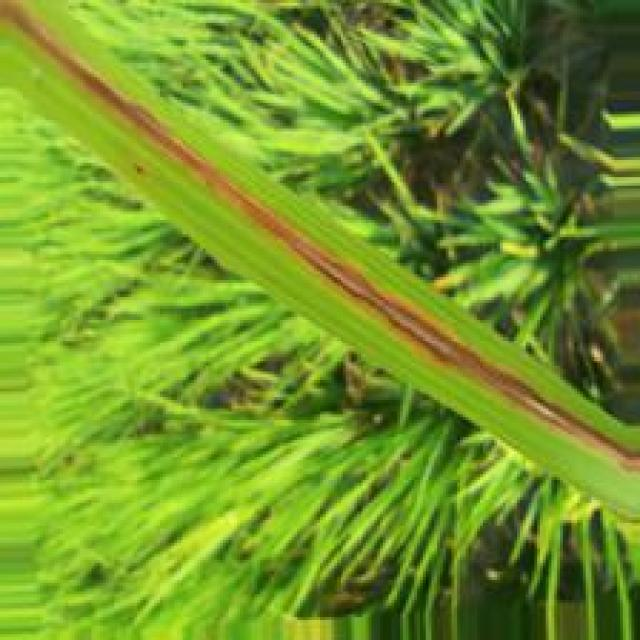Leaf_Blast: (274, 227, 579, 433)
